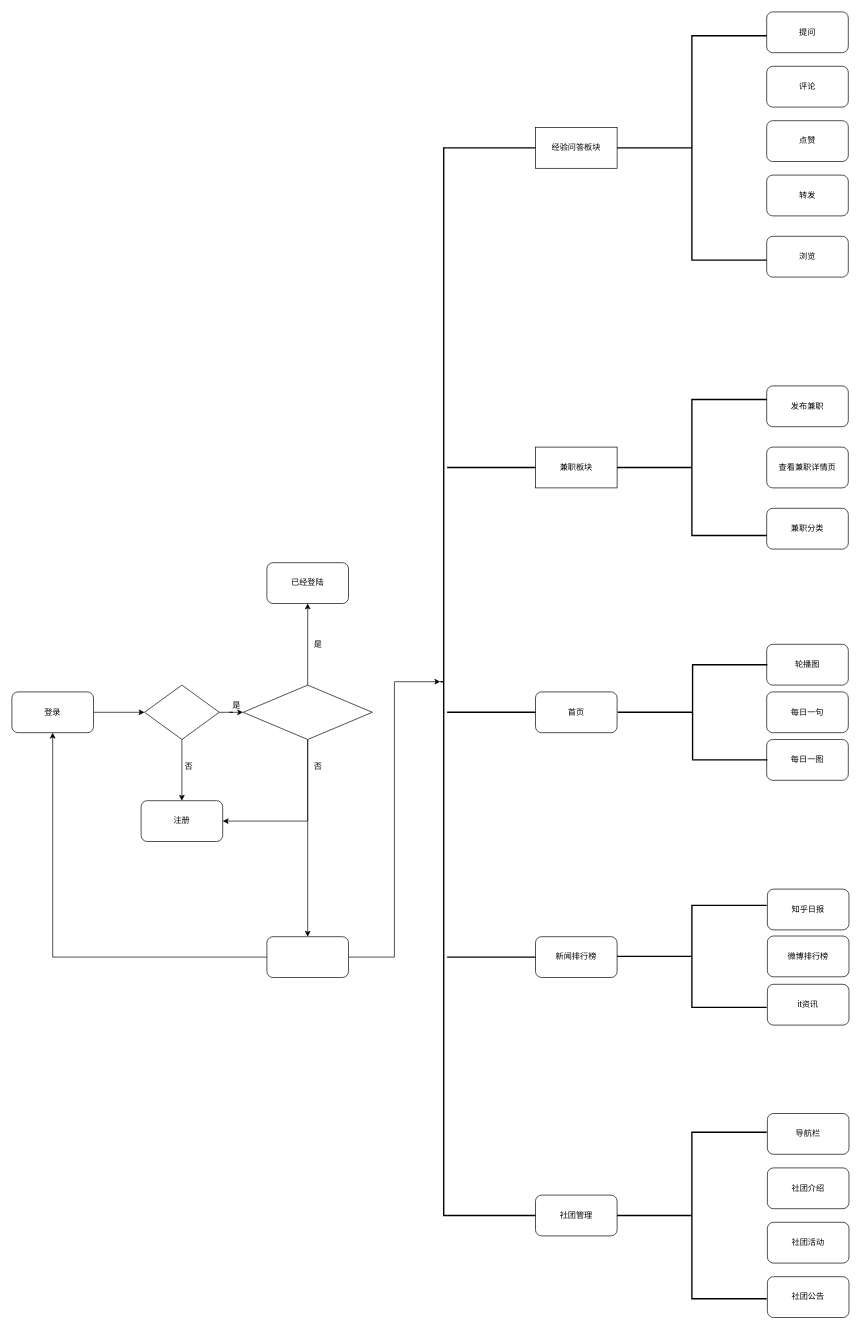
The diagram is 861 pixels wide and 1329 high, and some of its shapes have lost their labels. The shapes that lost their labels are listed below. From the top down, each one's box as (x1, y1, x2, y2) in pixels, then its label:
(144, 684, 219, 740): 是否登录
(242, 684, 372, 740): 密码是否正确，账号是否存在
(266, 936, 348, 978): 游客模式
